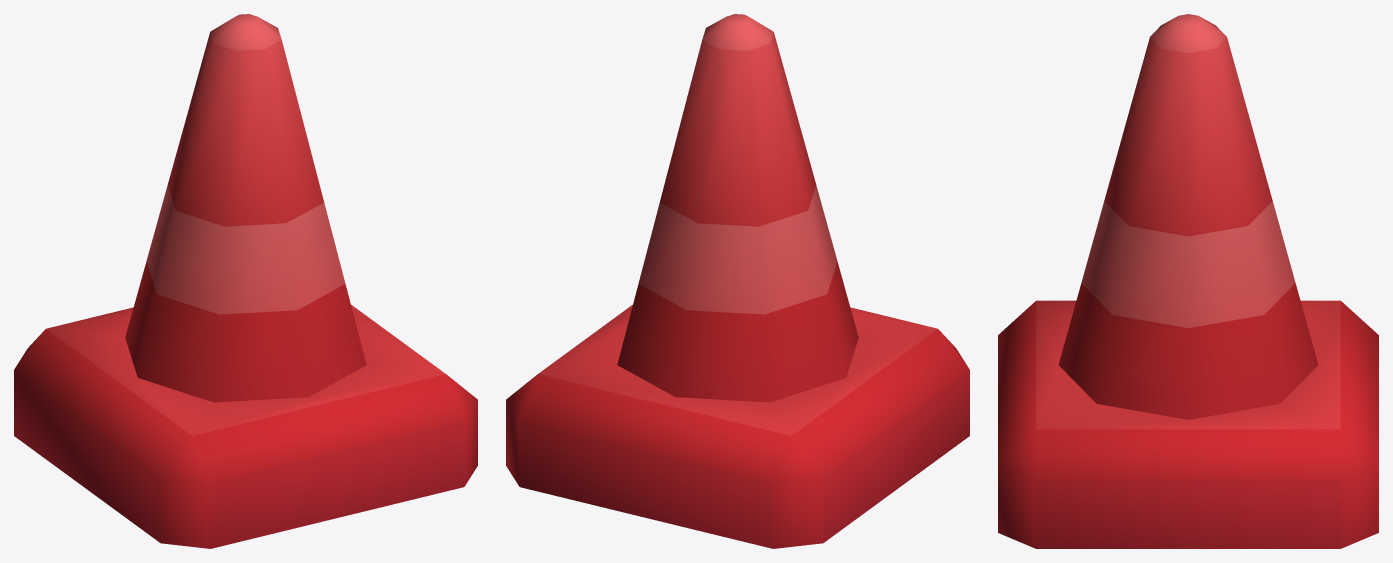
Rendered from cone_red.glb.
3 renders of one model, left to right at view 1: azimuth 30°, elevation 25°; view 2: azimuth 150°, elevation 25°; view 3: azimuth 270°, elevation 25°, orthographic. The views are drawn at different scales.
Visible parts, largest first — view 1: cone_red; view 2: cone_red; view 3: cone_red.
Part boxes in pixels (left/top/right/bottom): cone_red: left=14, top=14, right=477, bottom=548; cone_red: left=506, top=14, right=969, bottom=548; cone_red: left=998, top=14, right=1378, bottom=548.
Bounding box in the file's own units: 0.5 × 0.65 × 0.5.
Materials: 1 (1 with a texture image).
